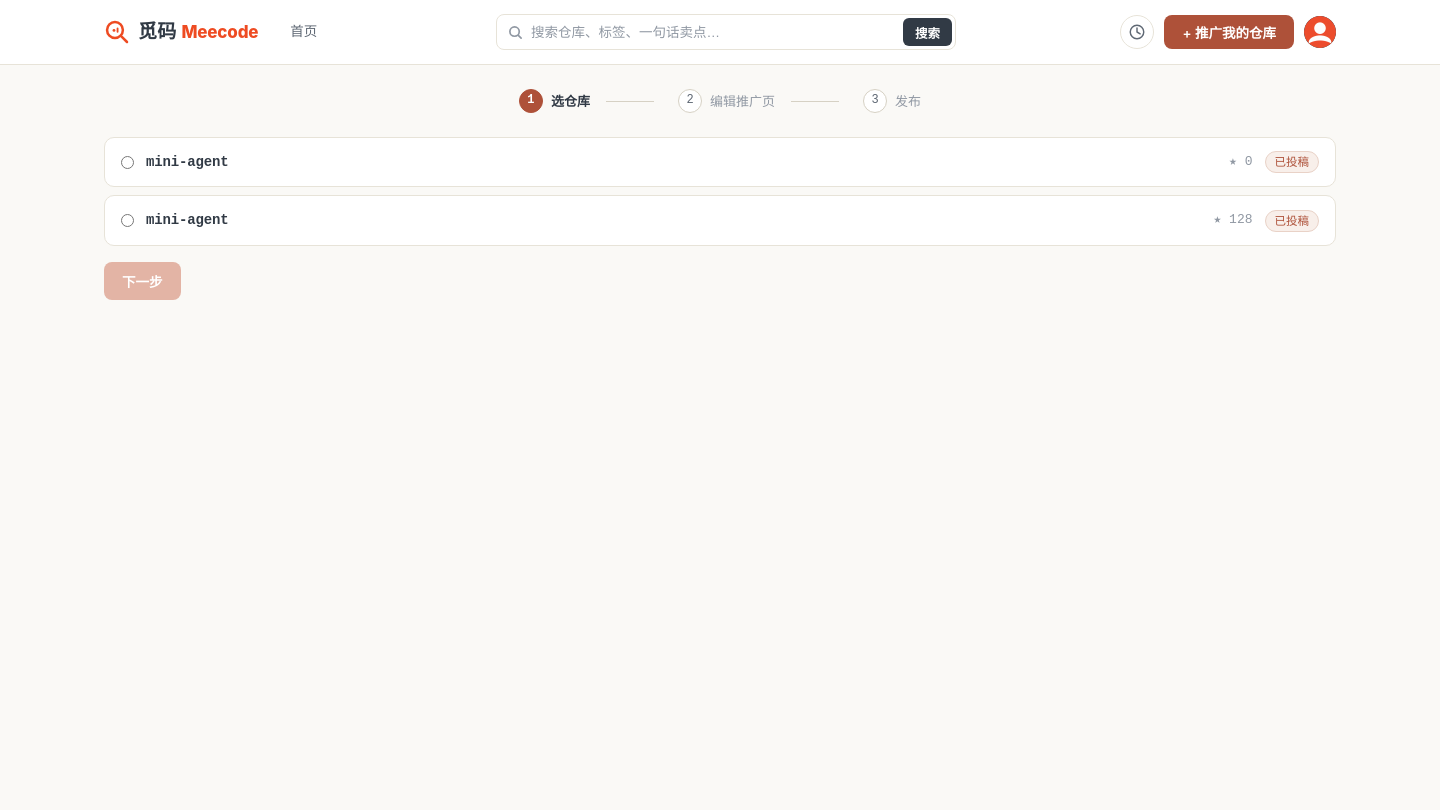
Test case: SubmitPage › AI 生成失败提示且不阻塞手写
The width and height of the screenshot is (1440, 810).
Click the radio button labelled "mini-agent ★ 0 已投稿" at (128, 162), box left=121, top=156, right=134, bottom=169
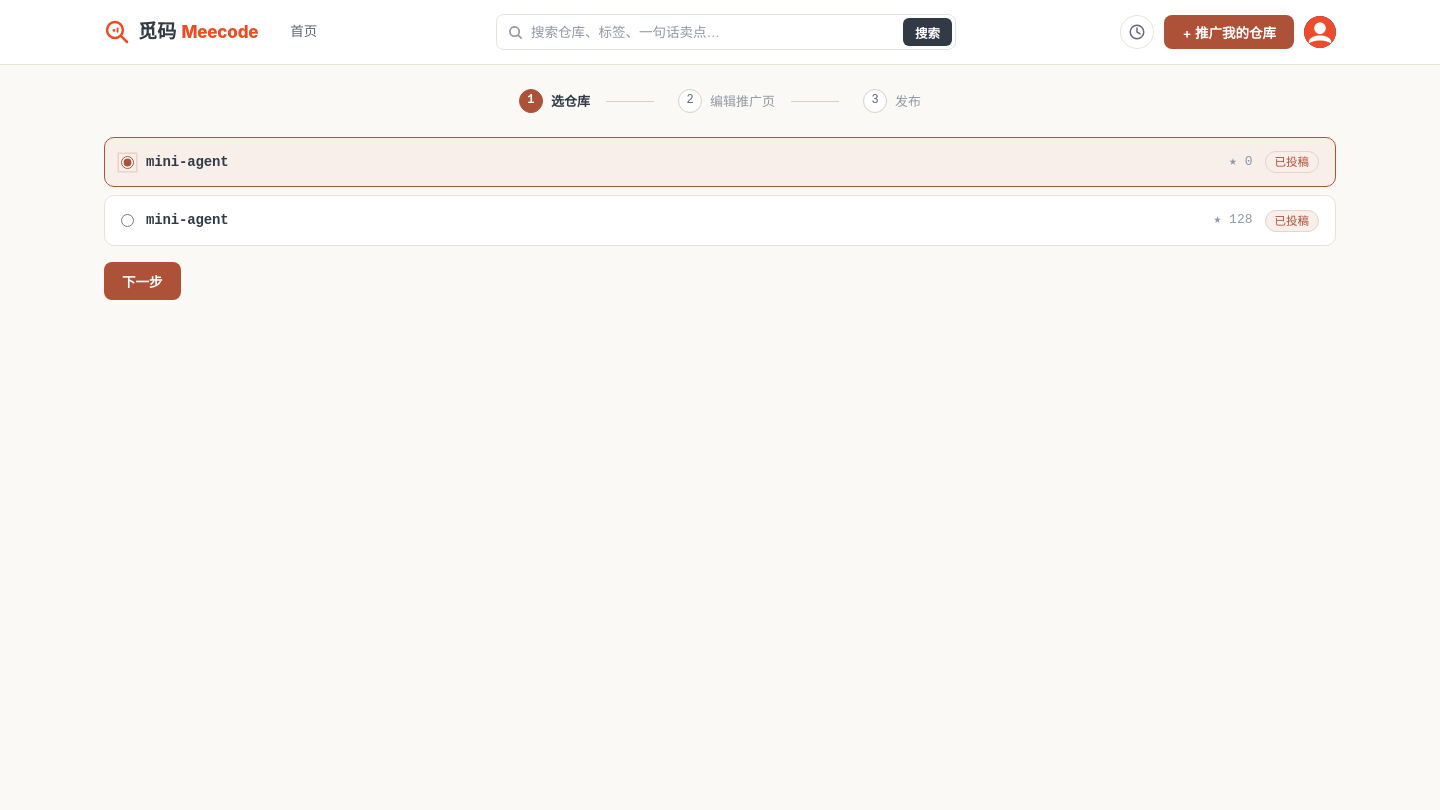
Click the button "下一步" at (142, 281), box left=104, top=262, right=180, bottom=300
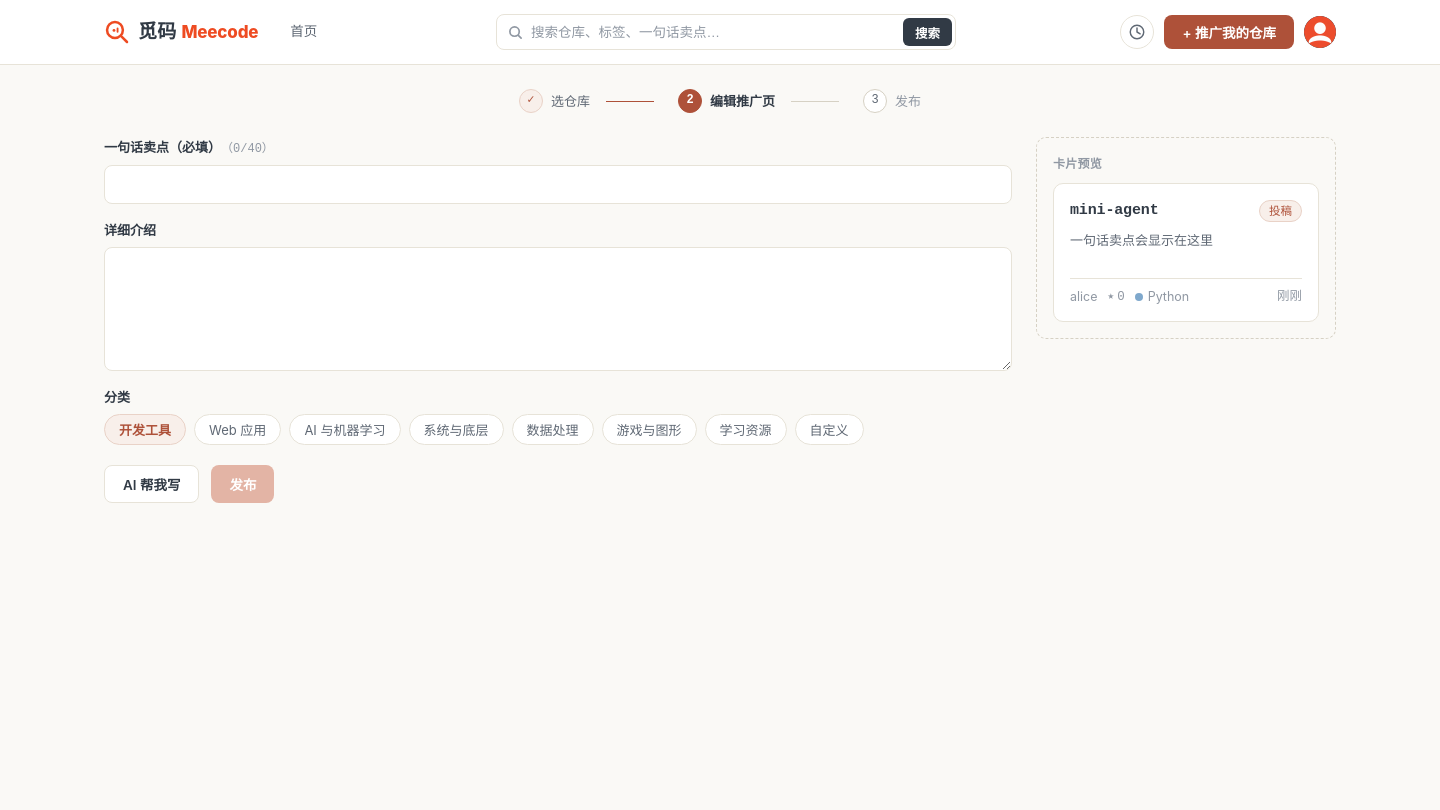
Click the button "AI 帮我写" at (152, 484), box left=104, top=465, right=200, bottom=503
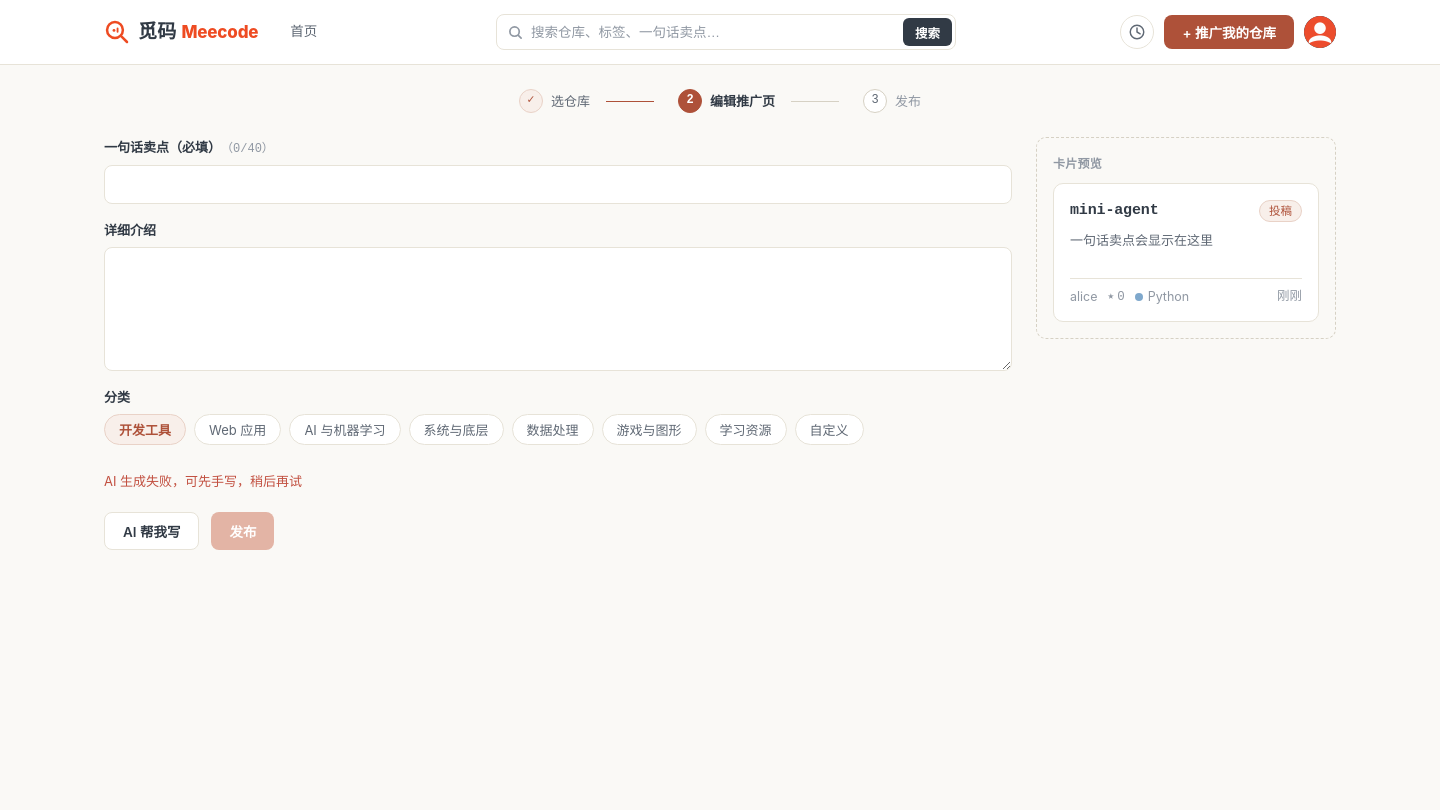
Expected: the button "AI 帮我写" is enabled, left=104, top=512, right=200, bottom=550
Expected: the message shows "AI 生成失败", left=104, top=473, right=302, bottom=489
